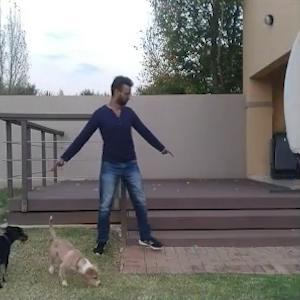land: (54, 75, 177, 253)
